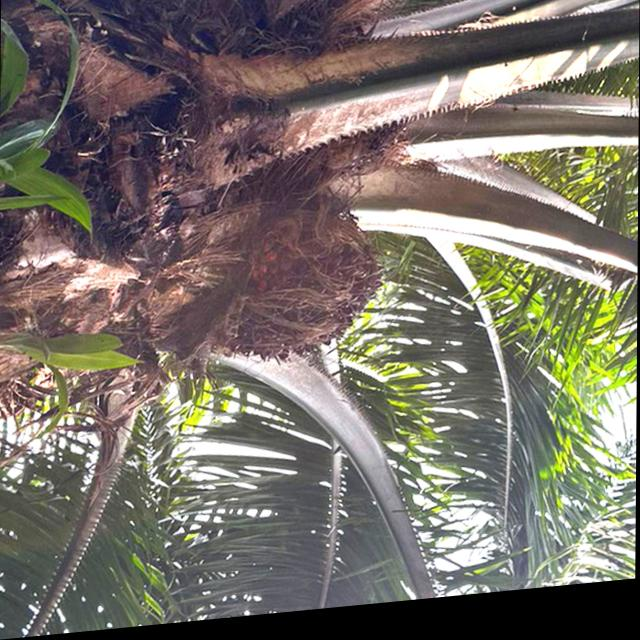ripe: (211, 206, 389, 372)
